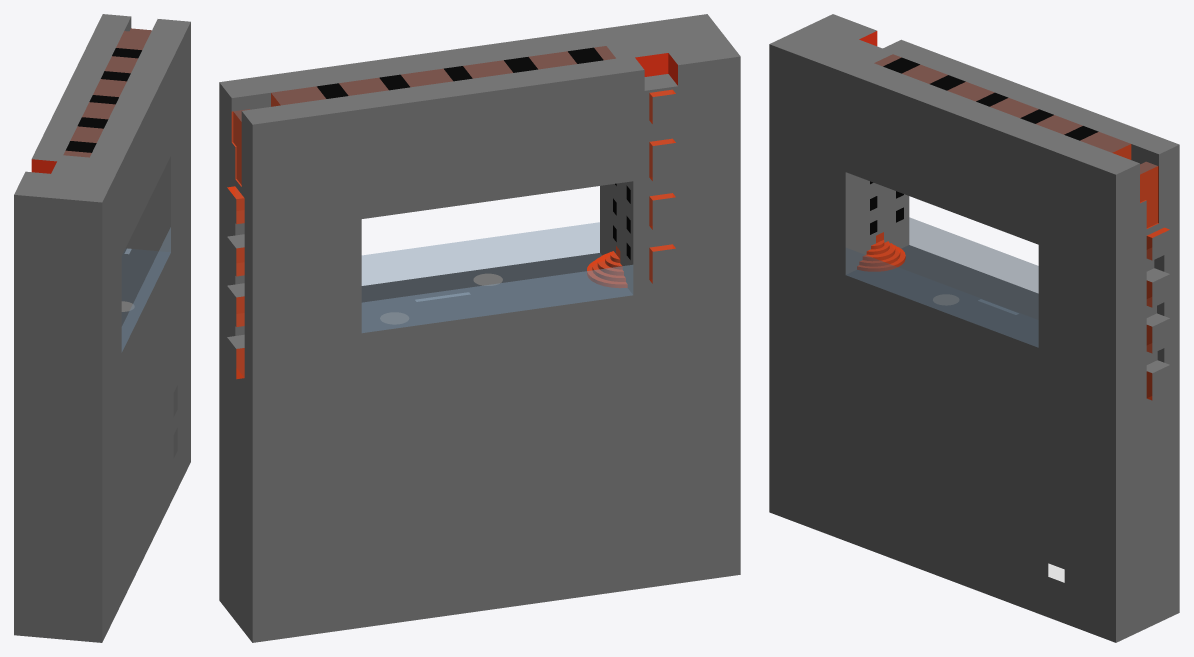
File: EDIFICIOMIRADOR.obj
3 views of the same model, side by side, from view 1: azimuth 30°, elevation 25°; view 2: azimuth 150°, elevation 25°; view 3: azimuth 270°, elevation 25° (orthographic). The views are drawn at different scales.
Size of the model in its own units: 2252 by 3058 by 2429.
